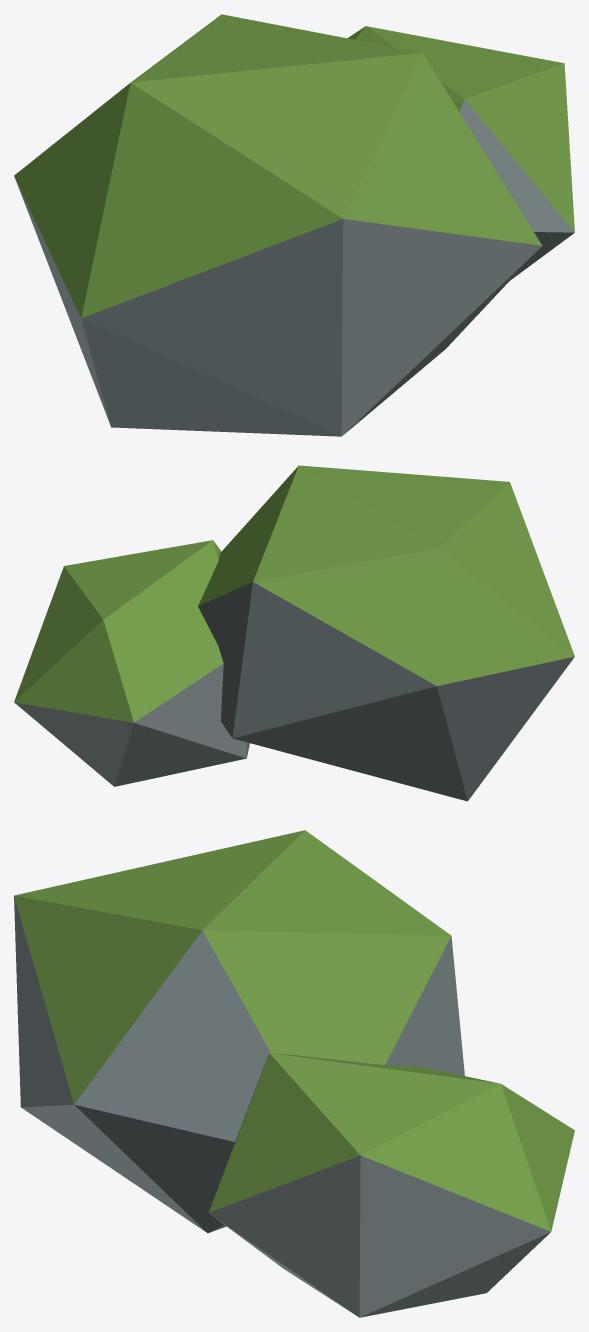
Rendered from world_boulder_mossy_m.obj.
3 renders of one model, top to bottom at view 1: azimuth 30°, elevation 25°; view 2: azimuth 150°, elevation 25°; view 3: azimuth 270°, elevation 25°, orthographic. The views are drawn at different scales.
Parts seen in each view (by area): view 1: world_boulder_mossy_m; view 2: world_boulder_mossy_m; view 3: world_boulder_mossy_m.
Boxes of the visible parts, bbox=[...] form: world_boulder_mossy_m: bbox=[14, 14, 574, 436]; world_boulder_mossy_m: bbox=[14, 465, 574, 801]; world_boulder_mossy_m: bbox=[14, 830, 574, 1317].
Size of the model in its own units: 6.23 by 3.49 by 5.43.
